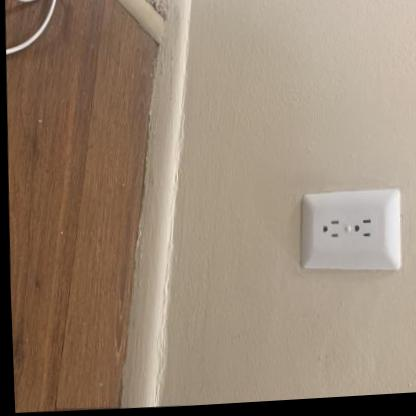OUTLET: (297, 184, 404, 273)
